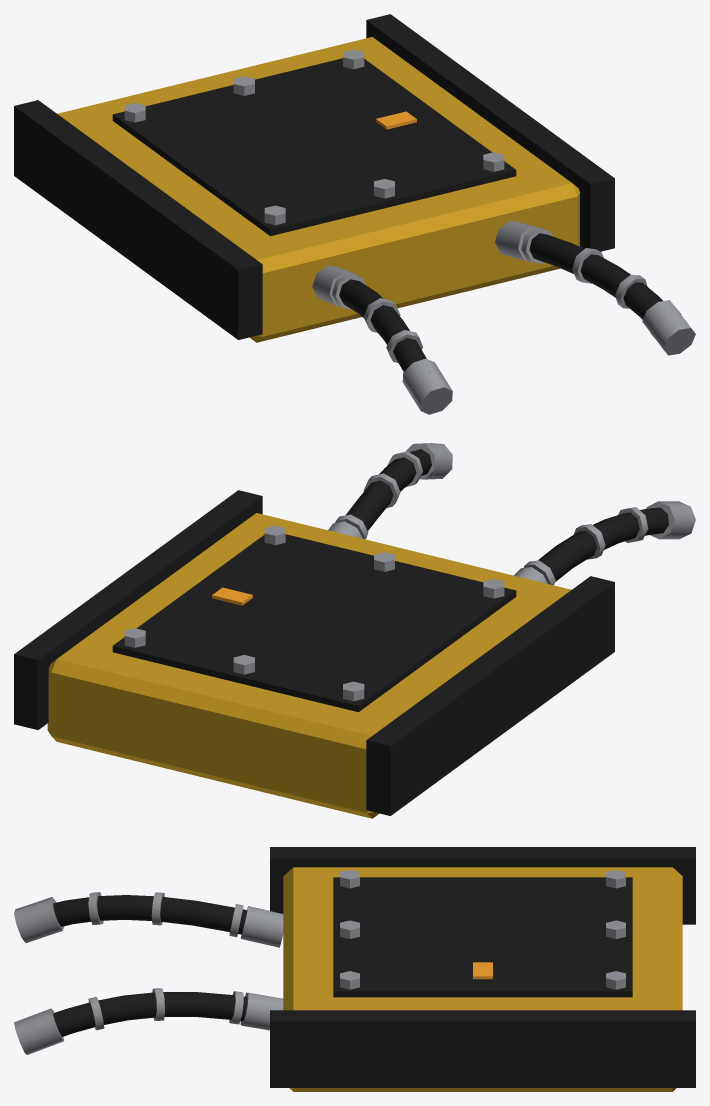
File: kt1_field_ctl.obj
The picture shows the model from 3 angles, top to bottom: view 1: azimuth 30°, elevation 25°; view 2: azimuth 150°, elevation 25°; view 3: azimuth 270°, elevation 25°; orthographic projection. The views are drawn at different scales.
Parts seen in each view (by area): view 1: kt1_field_ctl; view 2: kt1_field_ctl; view 3: kt1_field_ctl.
Boxes of the visible parts, <box> form: kt1_field_ctl: <box>14,14,695,414</box>; kt1_field_ctl: <box>14,443,695,818</box>; kt1_field_ctl: <box>14,847,695,1091</box>.
Size of the model in its own units: 1.24 by 0.31 by 2.05.
